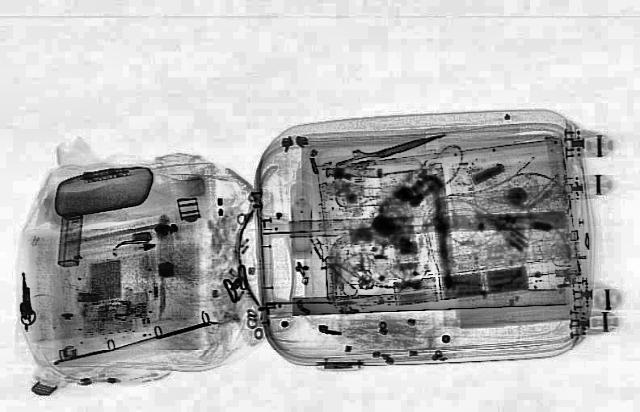Knife: (327, 126, 449, 172)
